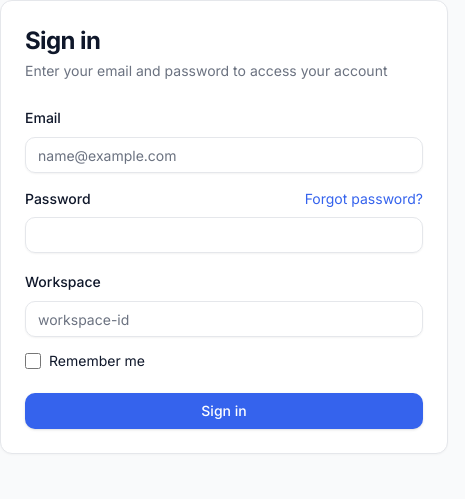
LoginForm › validation › should show error for empty workspace
In the field labelled "Email": (224, 155) 25,137 -> 423,173, type "test@example.com"
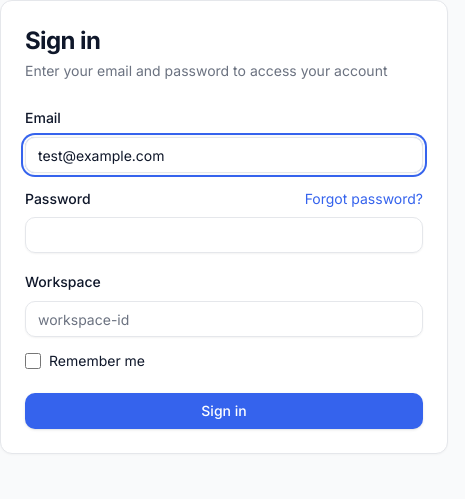
In the password field labelled "Password": (224, 235) 25,217 -> 423,253, type "password123"
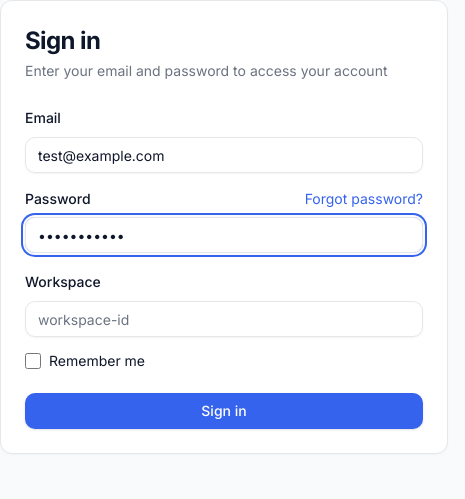
Click the button "Sign in": (224, 411) 25,393 -> 423,429
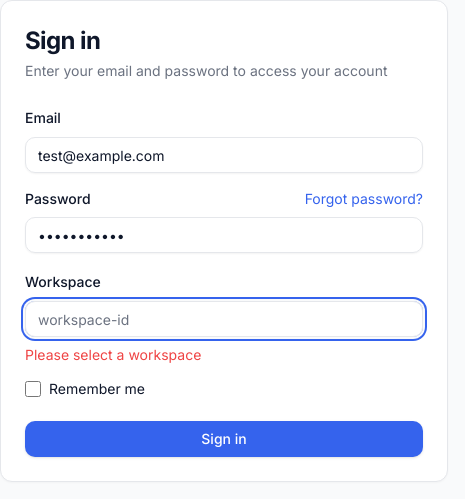
Now the text "Please select a workspace" is shown, box 25,346 -> 201,363
